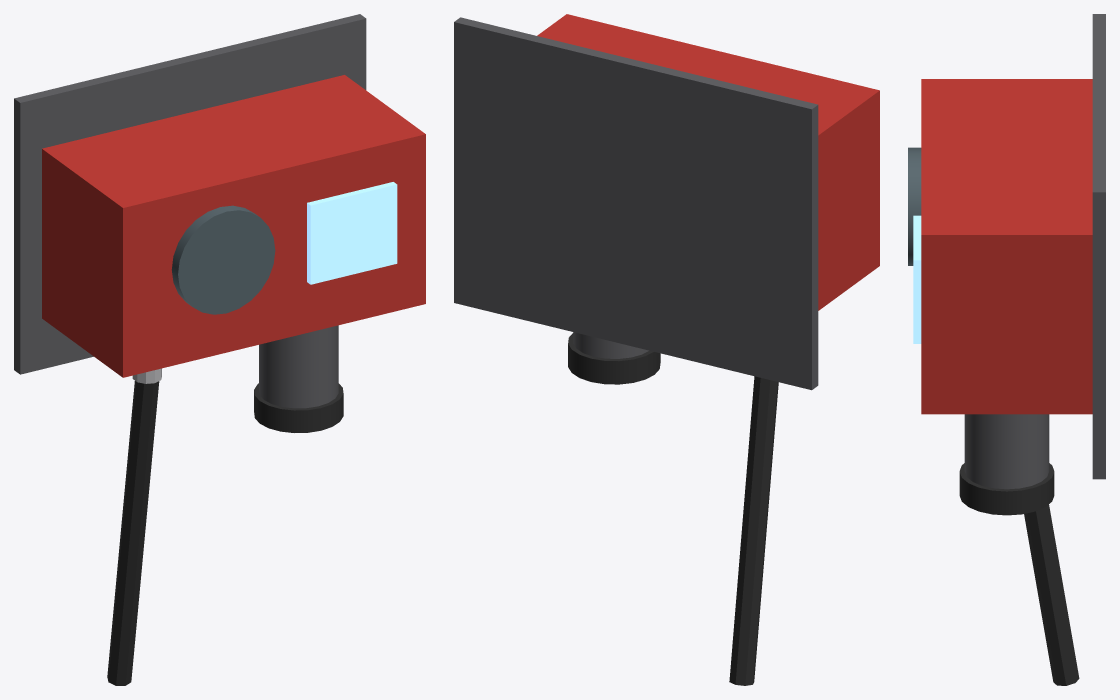
The model's file is SM_GasDetector_Fixed.fbx.
3 views of the same model, side by side, from view 1: azimuth 30°, elevation 25°; view 2: azimuth 150°, elevation 25°; view 3: azimuth 270°, elevation 25° (orthographic). The views are drawn at different scales.
Visible parts, largest first — view 1: GD_Fixed; view 2: GD_Fixed; view 3: GD_Fixed.
Boxes of the visible parts, <box> form: GD_Fixed: <box>14,14,425,685</box>; GD_Fixed: <box>454,14,879,685</box>; GD_Fixed: <box>908,14,1105,685</box>.
Bounding box in the file's own units: 32 × 52.16 × 15.
